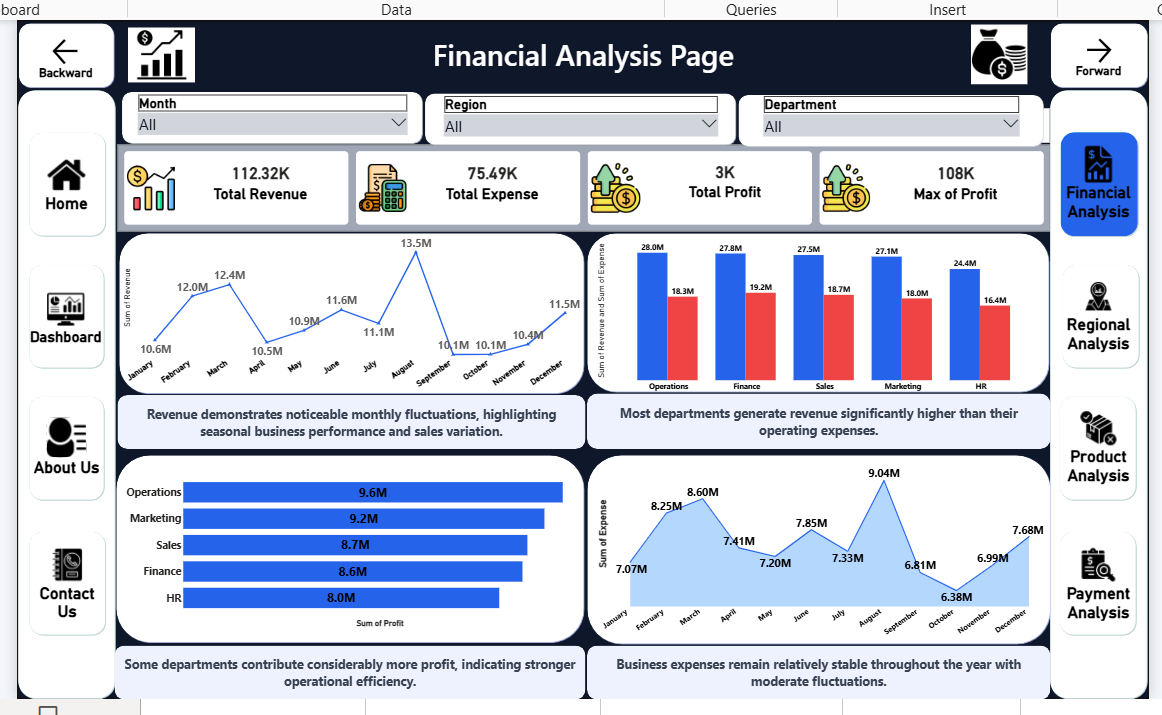

The dashboard page shown, as its layout file describes it:
{"tool":"powerbi","page":{"name":"Financial Analysis Page","canvas":[5000,3000],"ordinal":2},"visuals":[{"type":"shape","box":[437.7,5.9,4122.7,295.7],"z":0},{"type":"shape","box":[0,304.9,437.4,2697.4],"z":1000},{"type":"shape","box":[4559.8,304.9,437.4,2697.4],"z":2000},{"type":"shape","box":[0,6,435.4,298.2],"z":3000},{"type":"shape","box":[4557.1,6,441.4,298.2],"z":4000},{"type":"shape","box":[430.8,2763.7,2081,238.6],"z":5000},{"type":"image","box":[490.9,35.5,295.7,242.5],"z":6000},{"type":"cardVisual","fields":{"Data":["Avg(Finance_dataset.Revenue)","Avg(Finance_dataset.Expense)","Min(Finance_dataset.Profit)","Max(Finance_dataset.Profit)1"]},"box":[444,550.1,4122.3,384.4],"z":7000},{"type":"shape","box":[444,1656.9,2067.8,238.6],"z":8000},{"type":"shape","box":[430.8,1915.4,2081,841.7],"z":9000},{"type":"shape","box":[444,934.5,2067.8,722.4],"z":10000},{"type":"shape","box":[2511.8,934.5,2054.5,715.8],"z":11000},{"type":"lineChart","fields":{"Category":["Finance_dataset.Date.Variation.Date Hierarchy.Month"],"Y":["Sum(Finance_dataset.Revenue)"]},"box":[457.3,947.7,2034.7,695.9],"z":12000},{"type":"shape","box":[2511.8,1915.4,2061.2,848.3],"z":13000},{"type":"shape","box":[2518.5,2763.7,2047.9,238.6],"z":14000},{"type":"areaChart","fields":{"Category":["Finance_dataset.Date.Variation.Date Hierarchy.Month","Finance_dataset.Date.Variation.Date Hierarchy.Day"],"Y":["Sum(Finance_dataset.Expense)"]},"box":[2551.6,1935.2,1988.3,808.6],"z":15000},{"type":"shape","box":[2518.5,1650.3,2047.9,245.2],"z":16000},{"type":"clusteredBarChart","fields":{"Category":["Finance_dataset.Department"],"Y":["Sum(Finance_dataset.Profit)"]},"box":[477.2,1981.6,2001.5,709.1],"z":17000},{"type":"clusteredColumnChart","fields":{"Category":["Finance_dataset.Department"],"Y":["Sum(Finance_dataset.Revenue)","Sum(Finance_dataset.Expense)"]},"box":[2551.6,961,1988.3,689.3],"z":18000},{"type":"shape","box":[457.3,311.5,1338.8,238.6],"z":19000},{"type":"shape","box":[1796.1,318.1,1385.2,238.6],"z":20000},{"type":"shape","box":[3181.2,324.7,1358.6,238.6],"z":21000},{"type":"slicer","fields":{"Values":["Finance_dataset.Date.Variation.Date Hierarchy.Month"]},"box":[523.6,324.7,1212.8,232],"z":22000},{"type":"slicer","fields":{"Values":["Finance_dataset.Region"]},"box":[1875.6,331.4,1232.7,225.3],"z":23000},{"type":"slicer","fields":{"Values":["Finance_dataset.Department"]},"box":[3287.3,331.4,1153.2,232],"z":24000},{"type":"image","box":[4212.4,22,249.5,264.2],"z":25000},{"type":"textbox","box":[1696.7,59.6,1610.5,198.8],"z":26000},{"type":"actionButton","box":[33.1,19.9,364.5,245.2],"z":27000},{"type":"actionButton","box":[4606.1,19.9,344.6,238.6],"z":28000},{"type":"shape","box":[46.4,1073.7,344.6,470.6],"z":29000},{"type":"shape","box":[46.4,490.4,351.3,470.6],"z":30000},{"type":"actionButton","box":[46.4,490.4,344.6,470.6],"z":31000},{"type":"shape","box":[46.4,2253.4,351.3,470.6],"z":32000},{"type":"shape","box":[46.4,1656.9,344.6,470.6],"z":33000},{"type":"actionButton","box":[46.4,1080.3,338,470.6],"z":34000},{"type":"actionButton","box":[39.8,1650.3,357.9,470.6],"z":35000},{"type":"actionButton","box":[53,2253.4,338,470.6],"z":36000},{"type":"shape","box":[4606.1,490.4,351.3,470.6],"z":37000},{"type":"shape","box":[4612.8,1073.7,351.3,470.6],"z":38000},{"type":"shape","box":[4599.5,1656.9,351.3,470.6],"z":39000},{"type":"shape","box":[4599.5,2253.4,351.3,470.6],"z":40000},{"type":"actionButton","box":[4606.1,483.8,344.6,470.6],"z":41000},{"type":"actionButton","box":[4606.1,1067,344.6,470.6],"z":42000},{"type":"actionButton","box":[4606.1,1650.3,344.6,470.6],"z":43000},{"type":"actionButton","box":[4606.1,2253.4,344.6,470.6],"z":44000}]}

Visuals, with their boxes on the page's 5000x3000 design canvas (x1, y1, x2, y2). These are canvas units, not pixel positions in the 1162x715 screenshot, which may show the page scaled, cropped or inside an application window:
shape: l=438, t=6, r=4560, b=302
shape: l=0, t=305, r=437, b=3002
shape: l=4560, t=305, r=4997, b=3002
shape: l=0, t=6, r=435, b=304
shape: l=4557, t=6, r=4998, b=304
shape: l=431, t=2764, r=2512, b=3002
image: l=491, t=36, r=787, b=278
cardVisual - Avg(Finance_dataset.Revenue) x Avg(Finance_dataset.Expense): l=444, t=550, r=4566, b=934
shape: l=444, t=1657, r=2512, b=1896
shape: l=431, t=1915, r=2512, b=2757
shape: l=444, t=934, r=2512, b=1657
shape: l=2512, t=934, r=4566, b=1650
lineChart - Finance_dataset.Date.Variation.Date Hierarchy.Month x Sum(Finance_dataset.Revenue): l=457, t=948, r=2492, b=1644
shape: l=2512, t=1915, r=4573, b=2764
shape: l=2518, t=2764, r=4566, b=3002
areaChart - Finance_dataset.Date.Variation.Date Hierarchy.Month x Finance_dataset.Date.Variation.Date Hierarchy.Day: l=2552, t=1935, r=4540, b=2744
shape: l=2518, t=1650, r=4566, b=1896
clusteredBarChart - Finance_dataset.Department x Sum(Finance_dataset.Profit): l=477, t=1982, r=2479, b=2691
clusteredColumnChart - Finance_dataset.Department x Sum(Finance_dataset.Revenue): l=2552, t=961, r=4540, b=1650
shape: l=457, t=312, r=1796, b=550
shape: l=1796, t=318, r=3181, b=557
shape: l=3181, t=325, r=4540, b=563
slicer - Finance_dataset.Date.Variation.Date Hierarchy.Month: l=524, t=325, r=1736, b=557
slicer - Finance_dataset.Region: l=1876, t=331, r=3108, b=557
slicer - Finance_dataset.Department: l=3287, t=331, r=4440, b=563
image: l=4212, t=22, r=4462, b=286
textbox: l=1697, t=60, r=3307, b=258
actionButton: l=33, t=20, r=398, b=265
actionButton: l=4606, t=20, r=4951, b=258
shape: l=46, t=1074, r=391, b=1544
shape: l=46, t=490, r=398, b=961
actionButton: l=46, t=490, r=391, b=961
shape: l=46, t=2253, r=398, b=2724
shape: l=46, t=1657, r=391, b=2128
actionButton: l=46, t=1080, r=384, b=1551
actionButton: l=40, t=1650, r=398, b=2121
actionButton: l=53, t=2253, r=391, b=2724
shape: l=4606, t=490, r=4957, b=961
shape: l=4613, t=1074, r=4964, b=1544
shape: l=4600, t=1657, r=4951, b=2128
shape: l=4600, t=2253, r=4951, b=2724
actionButton: l=4606, t=484, r=4951, b=954
actionButton: l=4606, t=1067, r=4951, b=1538
actionButton: l=4606, t=1650, r=4951, b=2121
actionButton: l=4606, t=2253, r=4951, b=2724
